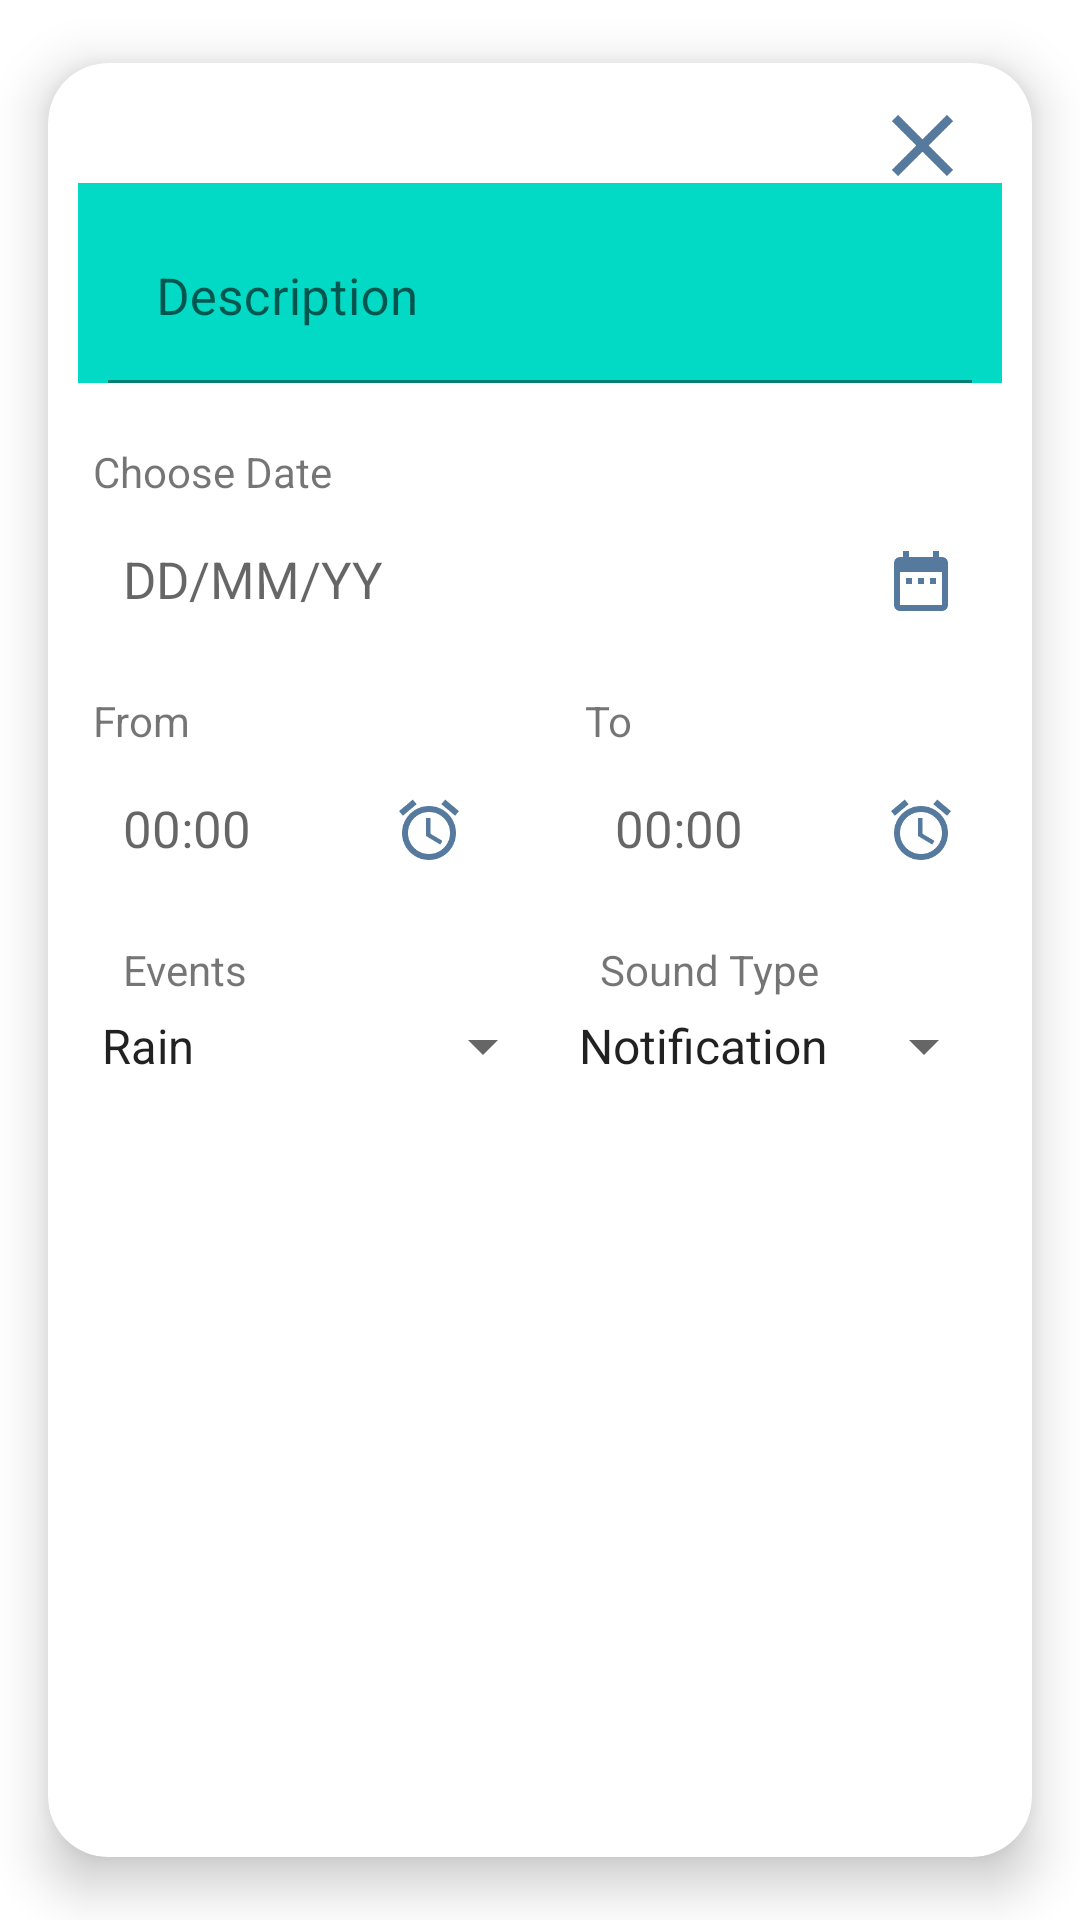

Named icons in this screenshot (1080x1920) and their bounding boxes, (x1, y1, x2, y2):
close: (870, 115, 975, 198)
